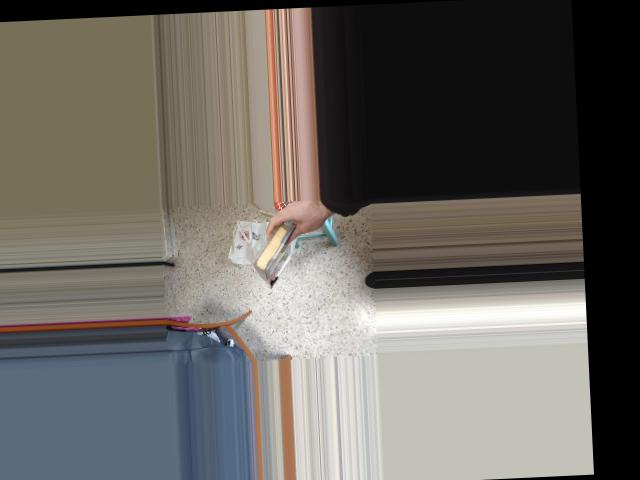cheese: (248, 204, 305, 289)
